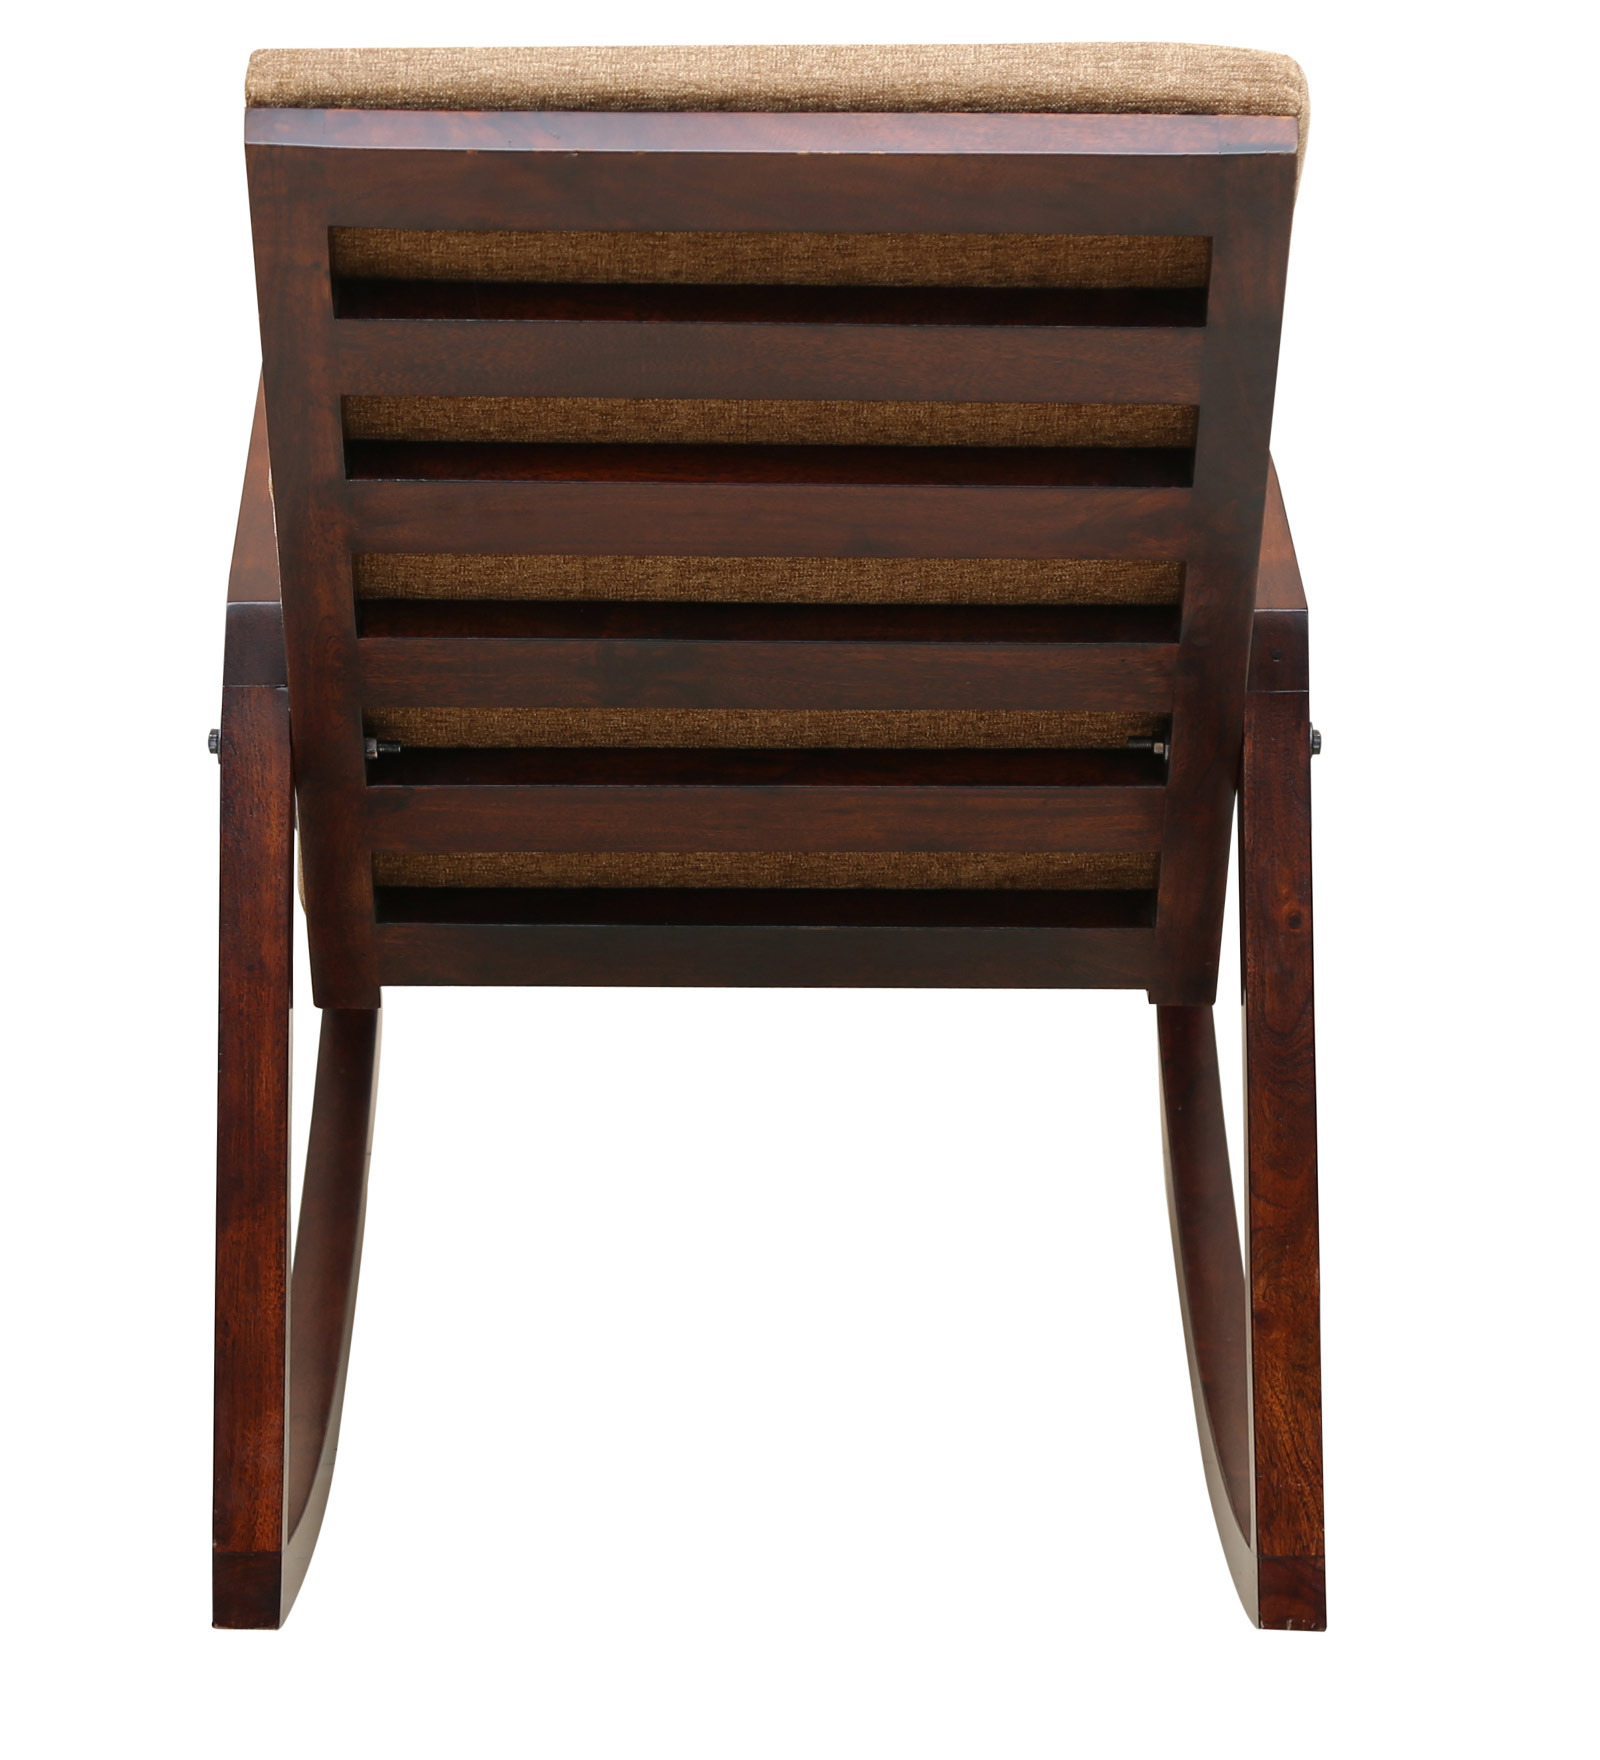Ace Rocking Chair in Brown Colour by HomeTown: (109, 15, 1384, 1660)
